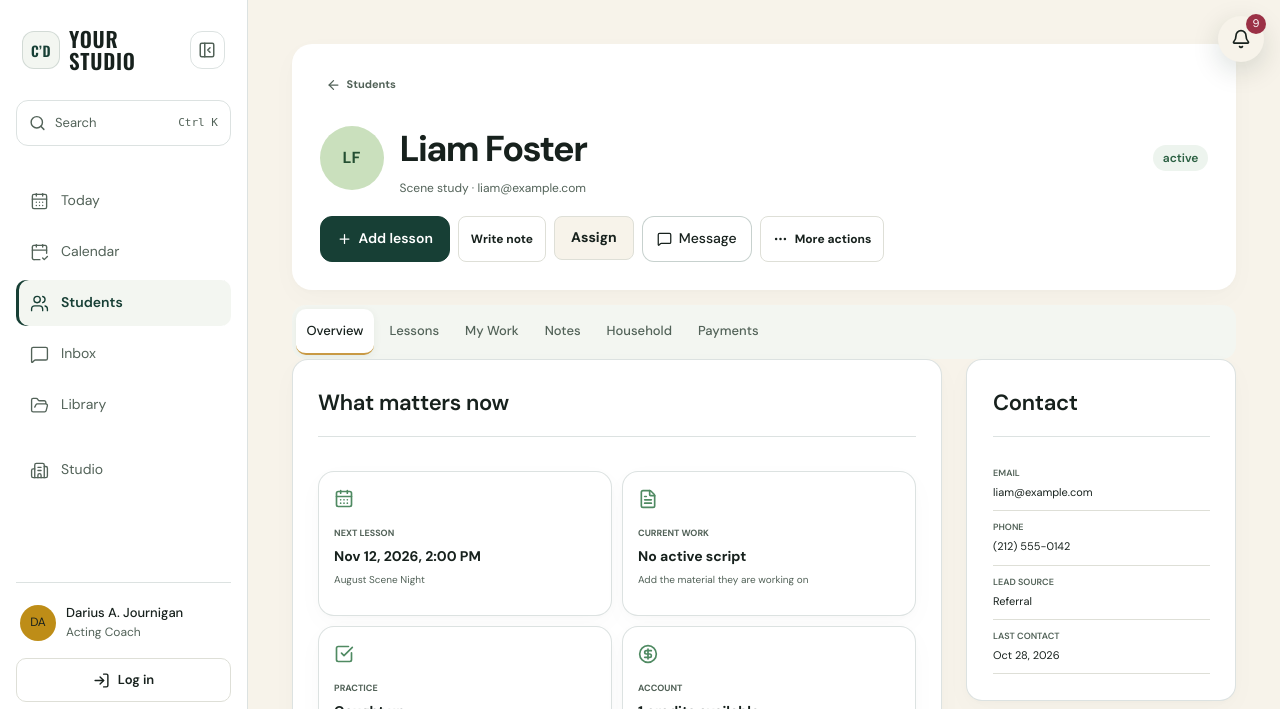
Scenario: 50 start-to-finish studio workflows › coach — 20 workflows › 05 edits student goals and status
Click the button "More actions": {"x": 822, "y": 239} 760,216 -> 884,262
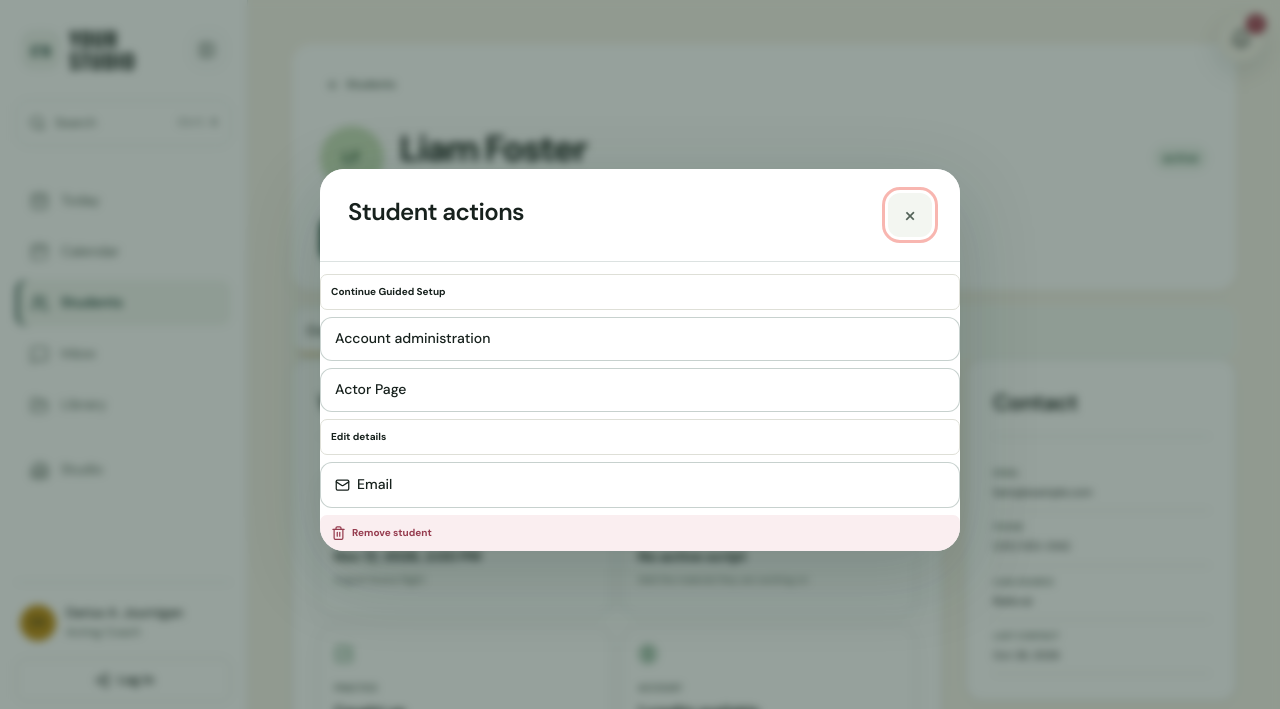
Click the button "Edit details": {"x": 359, "y": 436} 320,419 -> 960,455
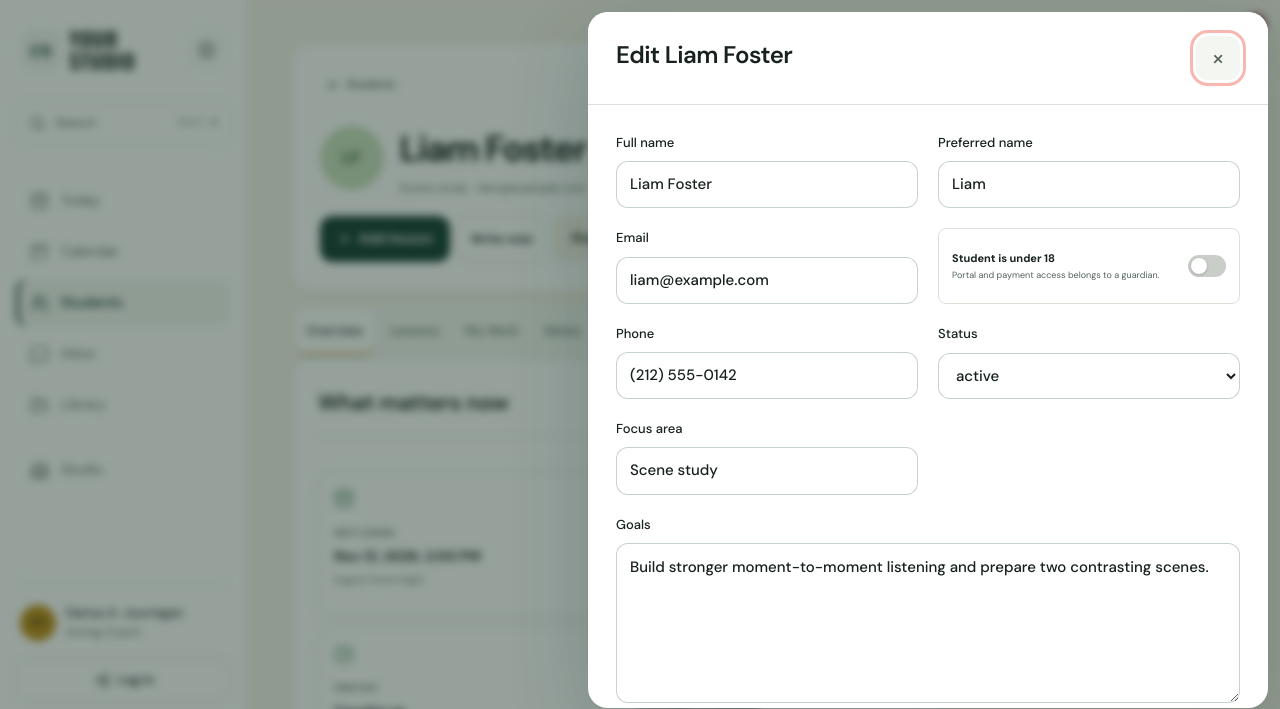
Select "paused" in the dropdown labelled "Status": {"x": 1089, "y": 376} 938,352 -> 1240,399
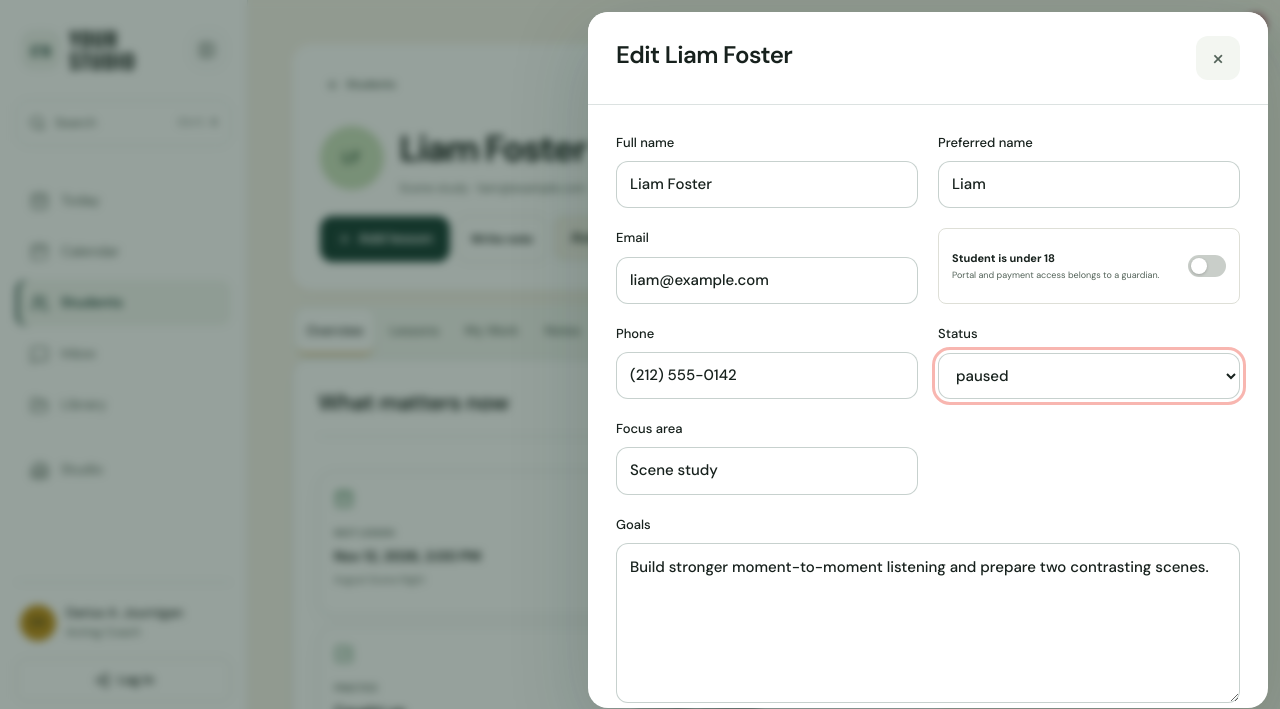
Replace the text in the text box labelled "Goals" with "Prepare a fall showcase.": {"x": 928, "y": 623} 616,543 -> 1240,703
(page scrolled)
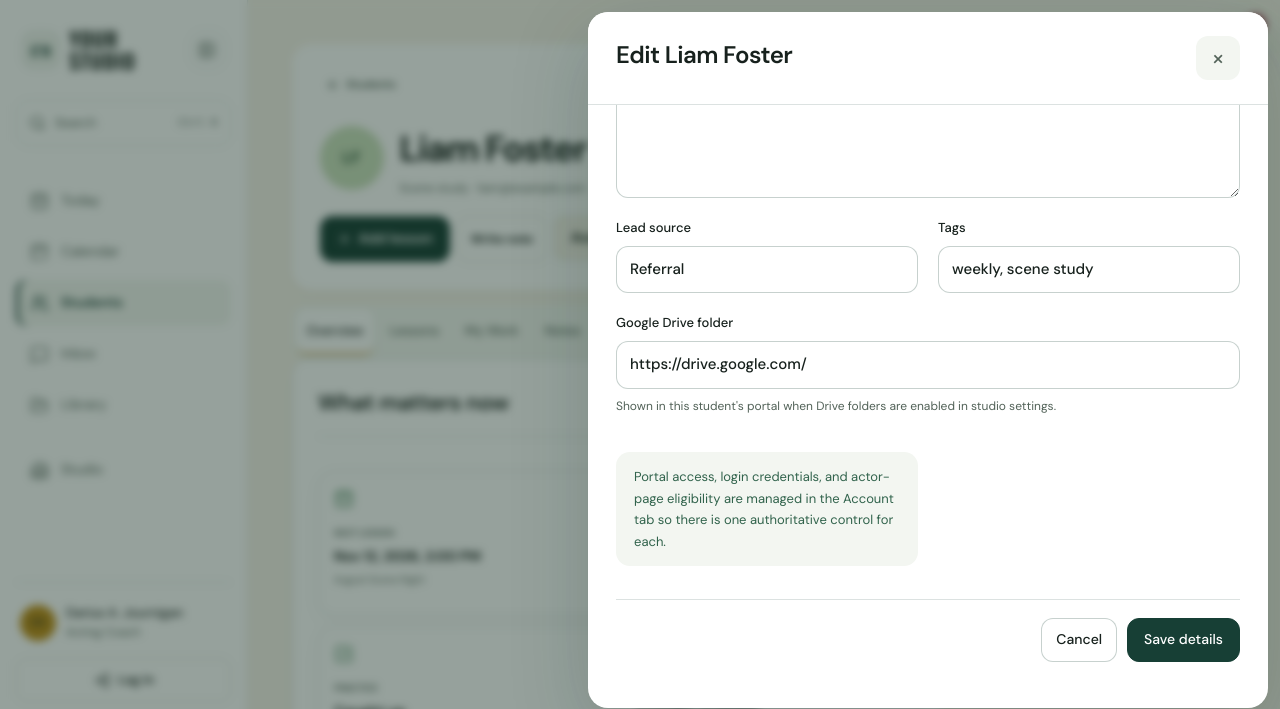
Click the button "Save details": {"x": 1184, "y": 640} 1127,618 -> 1240,662
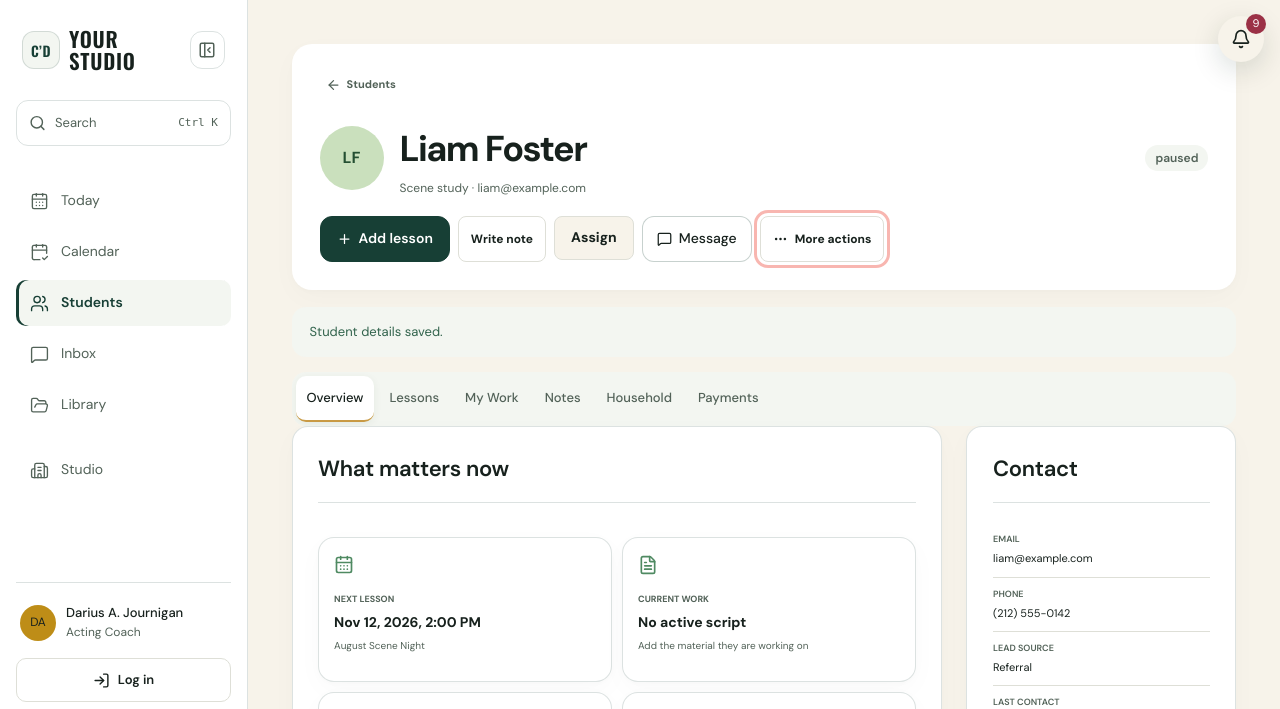
Check: the text "Student details saved." is shown, box 292,307 -> 1236,356
Check: the text "paused" is shown, box 1146,145 -> 1208,171
